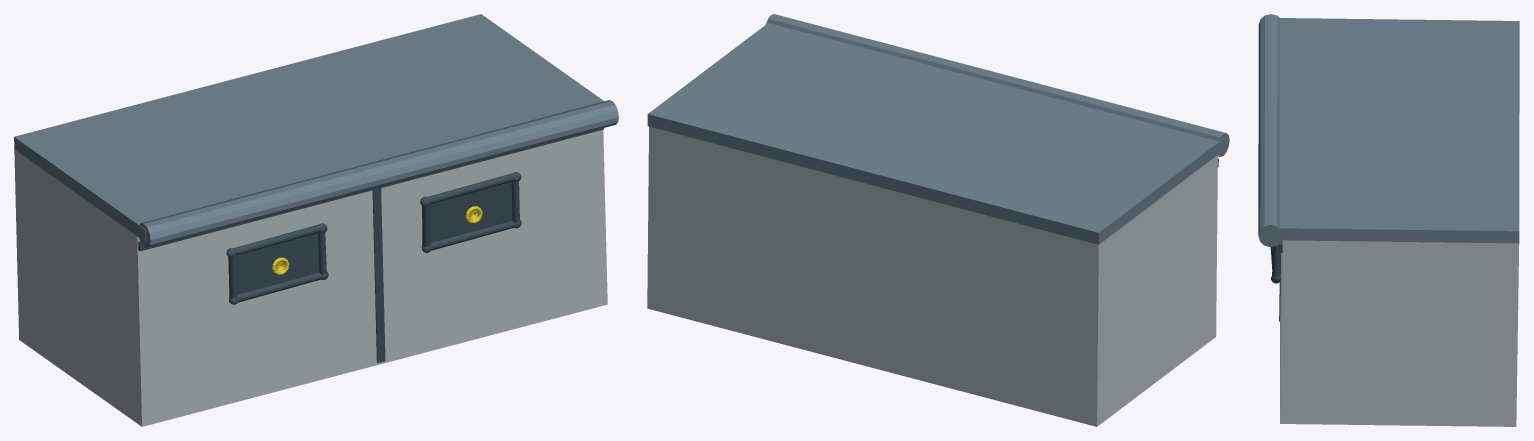
Rendered from Lab Desk.fbx.
3 renders of one model, left to right at view 1: azimuth 30°, elevation 25°; view 2: azimuth 150°, elevation 25°; view 3: azimuth 270°, elevation 25°, orthographic. The views are drawn at different scales.
Visible parts, largest first — view 1: model:Mesh; view 2: model:Mesh; view 3: model:Mesh.
Part boxes in pixels (bbox=[...]): model:Mesh: bbox=[14, 14, 618, 426]; model:Mesh: bbox=[647, 14, 1229, 426]; model:Mesh: bbox=[1258, 14, 1519, 426].
Size of the model in its own units: 7.81 by 3.49 by 3.92.
